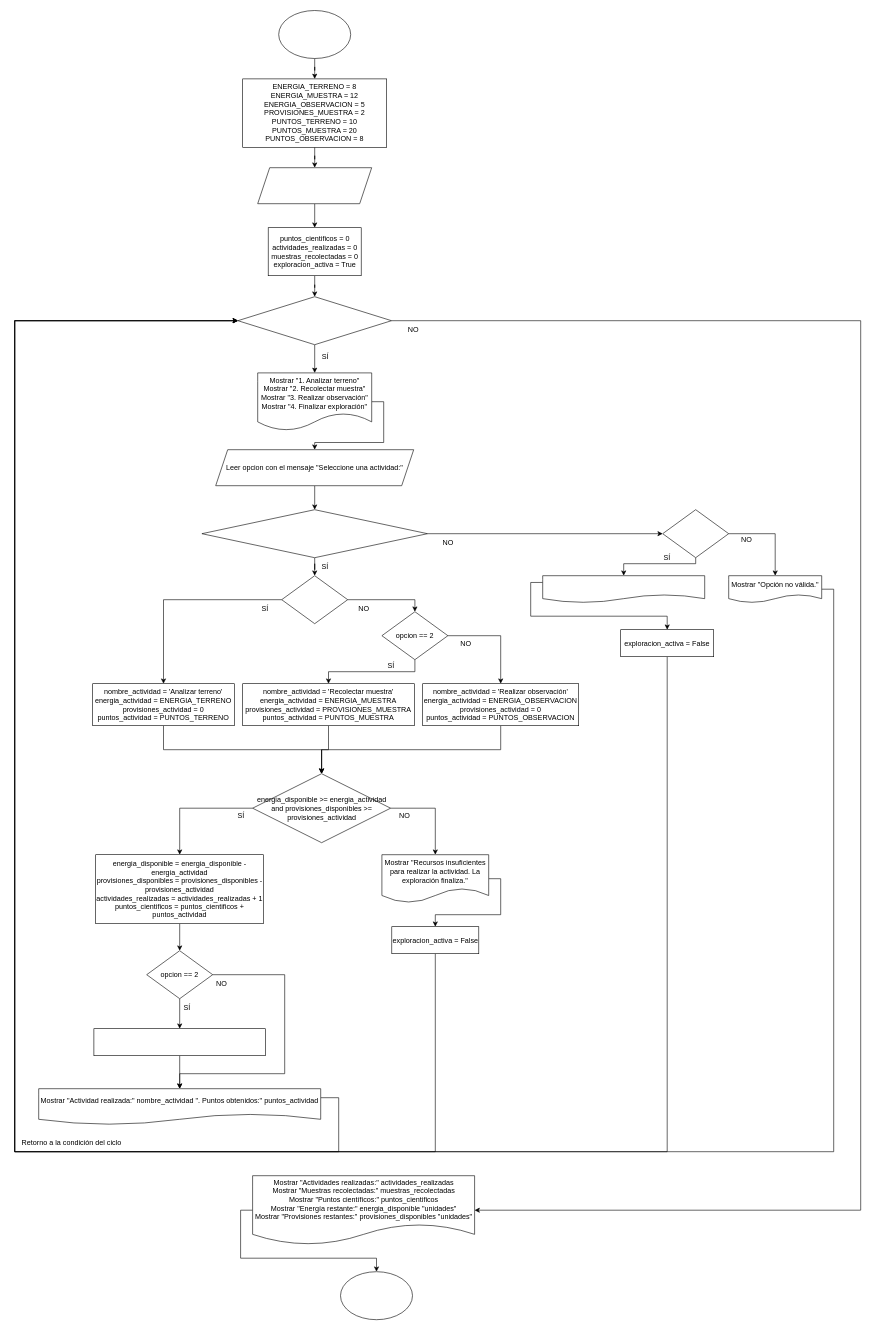
Image size: 876x1330. Some labels were removed from this diagram. The box of each missing label's shape, as (x1, y1, x2, y2) in pixels:
exploracion_activa == True: (237, 296, 392, 345)
FIN: (340, 1271, 412, 1320)
INICIO: (278, 10, 351, 58)
Leer energia_disponible Leer provisiones_disponibles: (257, 167, 372, 204)
Mostrar "Exploración finalizada por la tripulación.": (542, 575, 705, 603)
muestras_recolectadas = muestras_recolectadas + 1: (93, 1028, 266, 1056)
opcion == 1: (281, 575, 348, 624)
opcion == 1 or opcion == 2 or opcion == 3: (201, 509, 428, 558)
opcion == 4: (662, 509, 729, 558)
